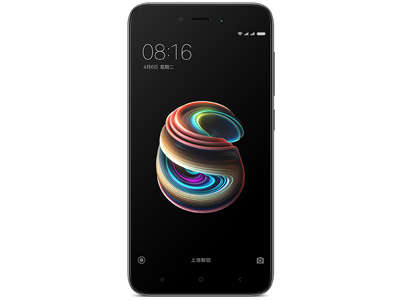Handphone: (124, 1, 278, 300)
